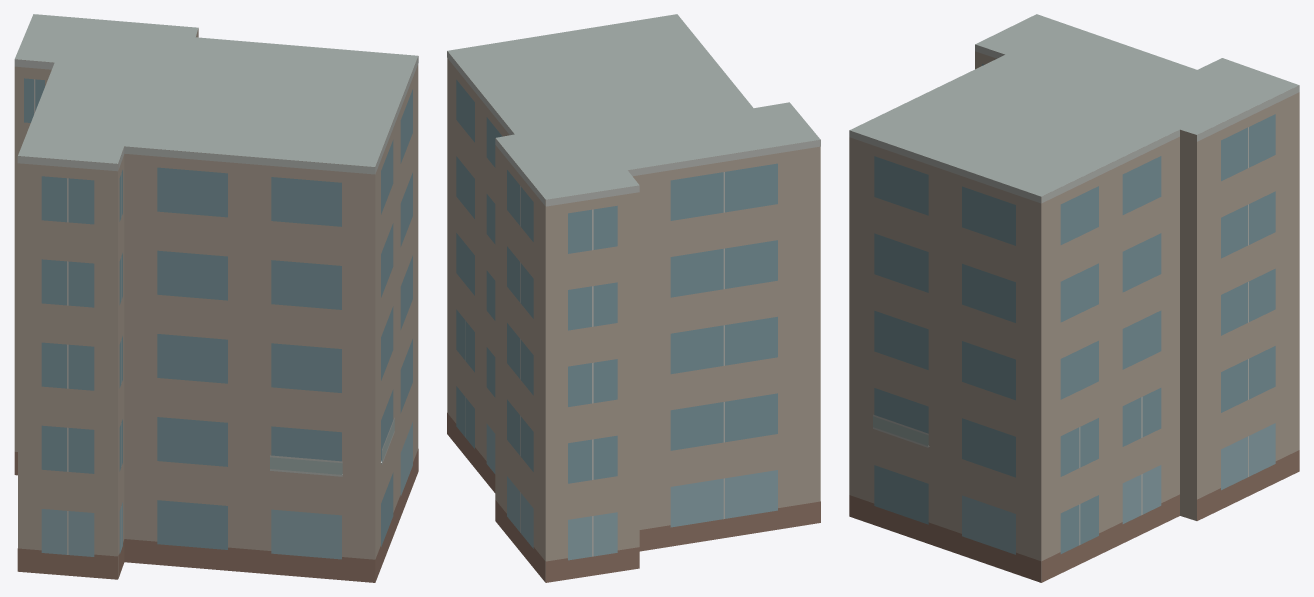
File: survey-upis-32536357.glb
3 views of the same model, side by side, from view 1: azimuth 30°, elevation 25°; view 2: azimuth 150°, elevation 25°; view 3: azimuth 270°, elevation 25° (orthographic). The views are drawn at different scales.
Parts seen in each view (by area): view 1: survey-upis-32536357.tmp; view 2: survey-upis-32536357.tmp; view 3: survey-upis-32536357.tmp.
Boxes of the visible parts, x1,y1,x2,y2 form: survey-upis-32536357.tmp: (14,14,418,582); survey-upis-32536357.tmp: (447,14,820,582); survey-upis-32536357.tmp: (849,14,1299,582).
Size of the model in its own units: 13.91 by 13.7 by 14.48.
